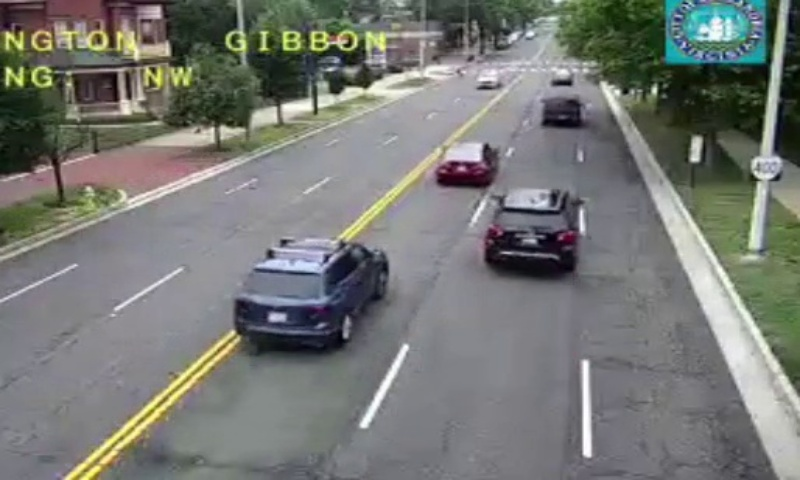car: (230, 237, 389, 344), (482, 189, 577, 268), (435, 141, 493, 183), (541, 97, 580, 127)
